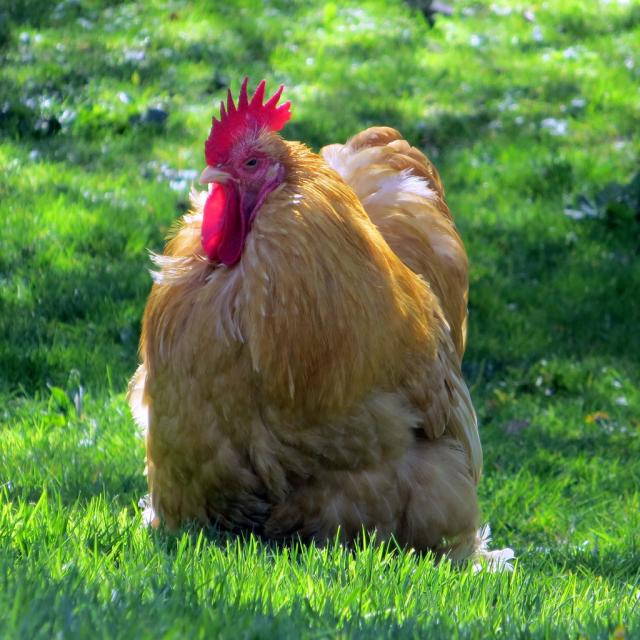Chicken: (136, 78, 492, 579)
